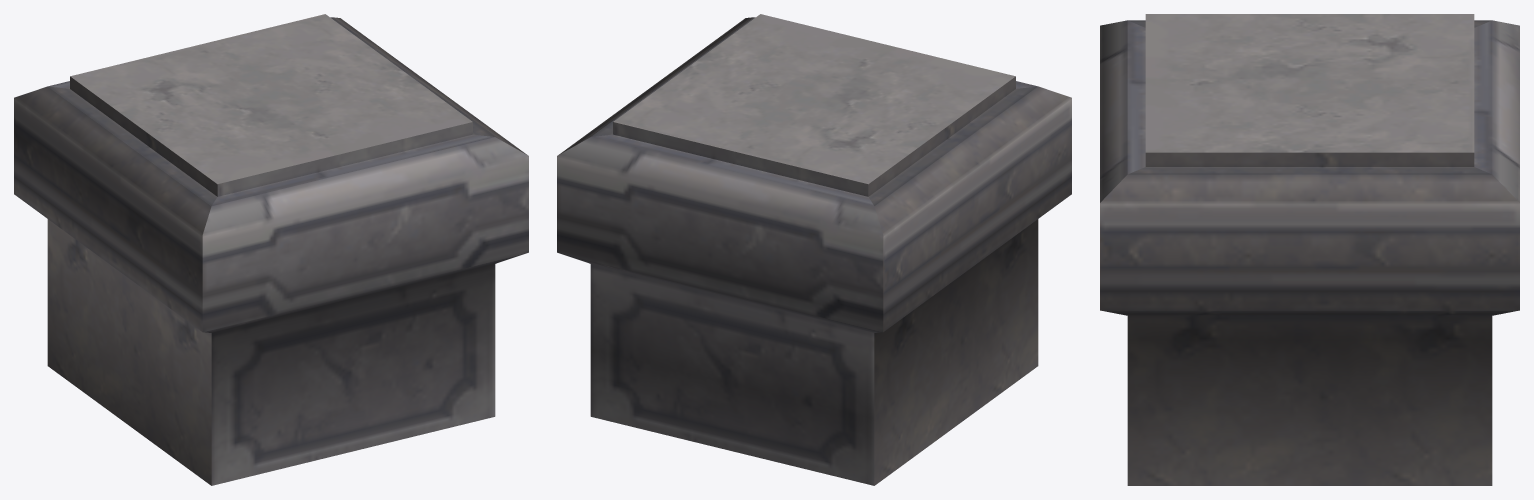
File: Recruit_Pillars_03.FBX
3 renders of one model, left to right at view 1: azimuth 30°, elevation 25°; view 2: azimuth 150°, elevation 25°; view 3: azimuth 270°, elevation 25°, orthographic. The views are drawn at different scales.
Visible parts, largest first — view 1: Recruit_Pillars_03; view 2: Recruit_Pillars_03; view 3: Recruit_Pillars_03.
Part boxes in pixels (x1,y1,x2,y2): Recruit_Pillars_03: (14, 14, 528, 485); Recruit_Pillars_03: (557, 14, 1071, 485); Recruit_Pillars_03: (1100, 14, 1519, 485).
Bounding box in the file's own units: 1.59 × 1.36 × 1.59.
